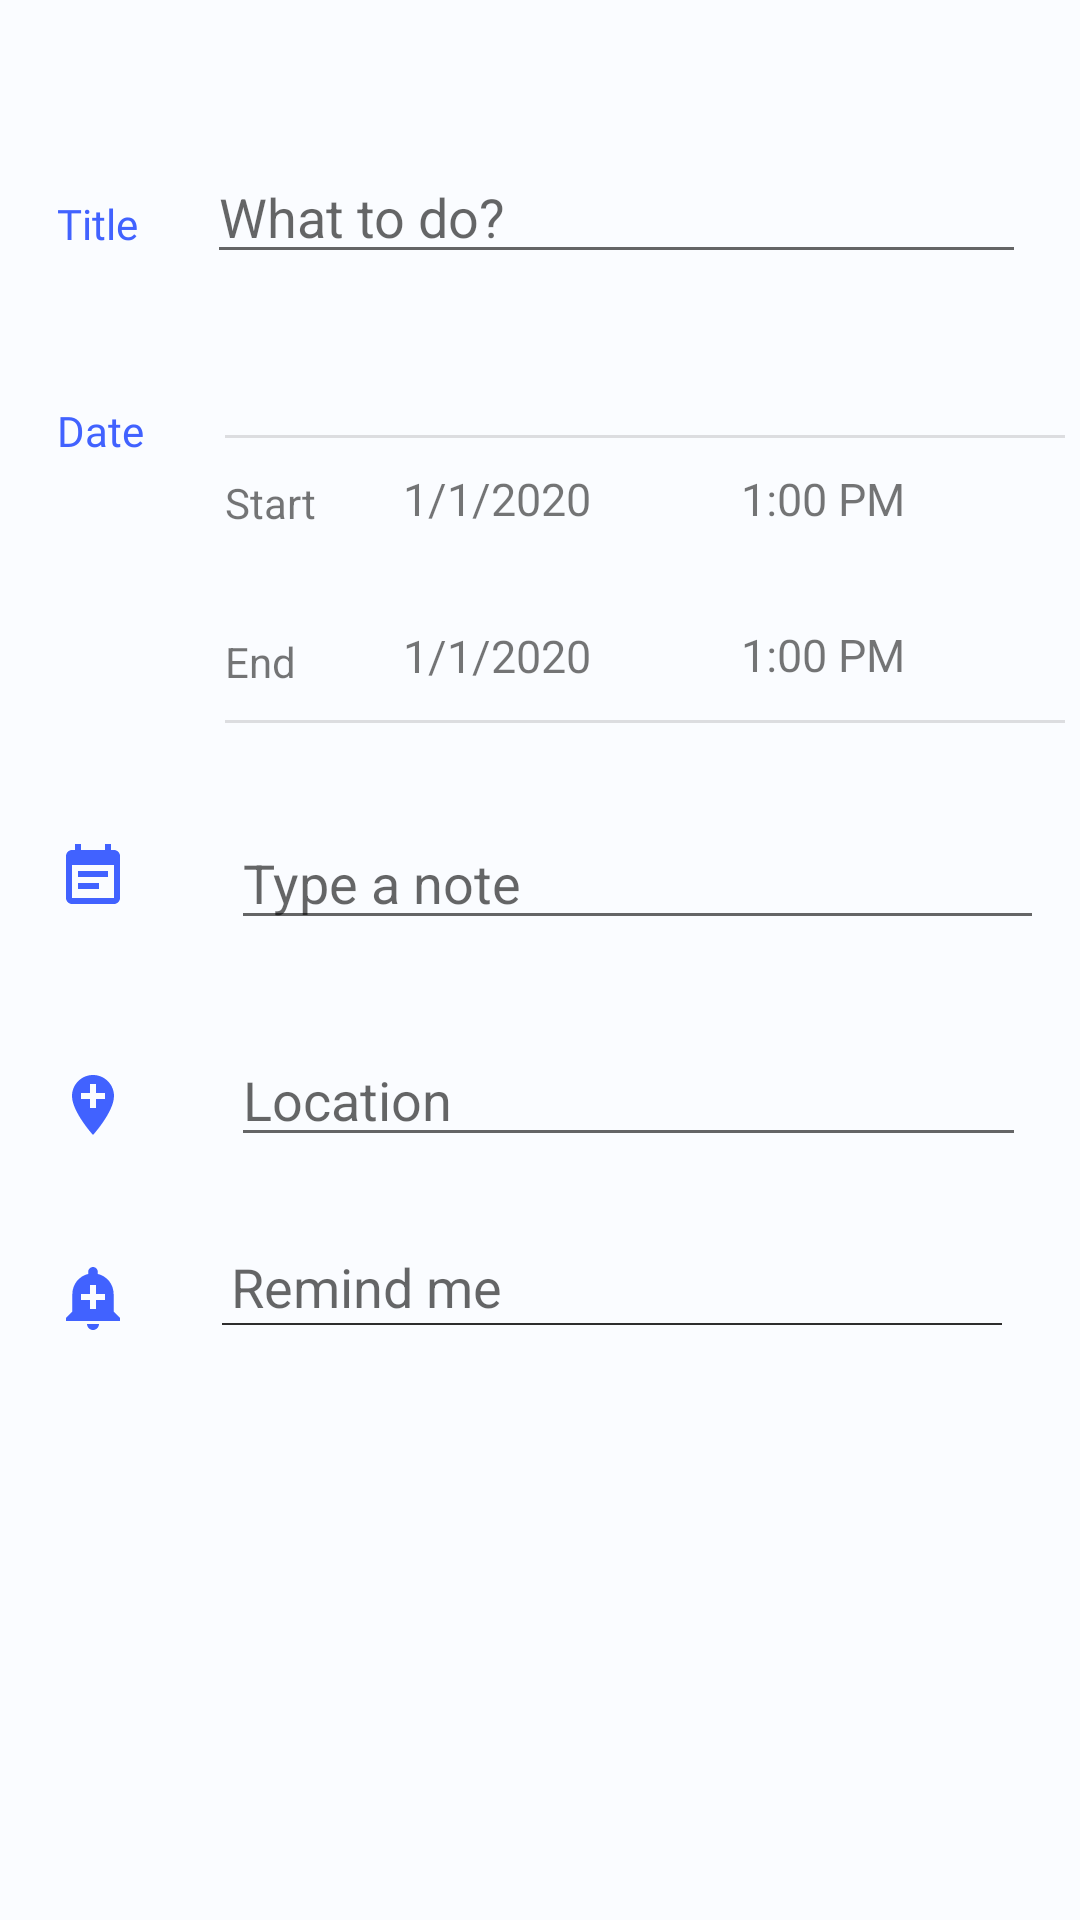

Icon click points for this 1080px x 1920px phone screenshot, format (x,y):
alert: (93,1298)
event note: (93,874)
